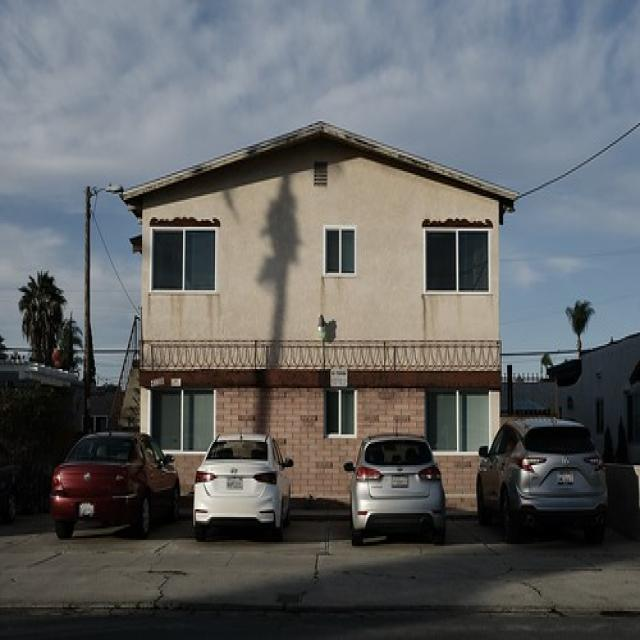building: (116, 117, 522, 519)
